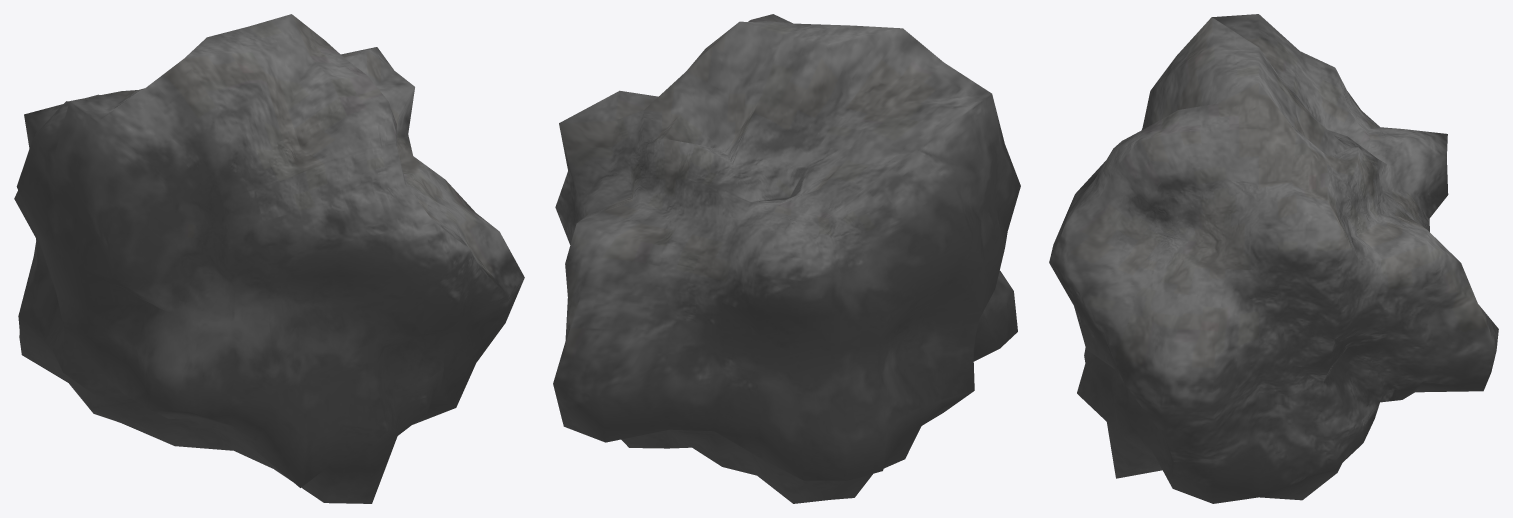
The model's file is asteroid.glb.
3 renders of one model, left to right at view 1: azimuth 30°, elevation 25°; view 2: azimuth 150°, elevation 25°; view 3: azimuth 270°, elevation 25°, orthographic. The views are drawn at different scales.
Parts seen in each view (by area): view 1: 立方体.001; view 2: 立方体.001; view 3: 立方体.001.
Boxes of the visible parts, left/top/right/bottom form: 立方体.001: left=14, top=14, right=524, bottom=503; 立方体.001: left=553, top=14, right=1020, bottom=503; 立方体.001: left=1049, top=14, right=1498, bottom=503.
Size of the model in its own units: 29.99 by 29.34 by 29.78.
1 material, 1 textured.
